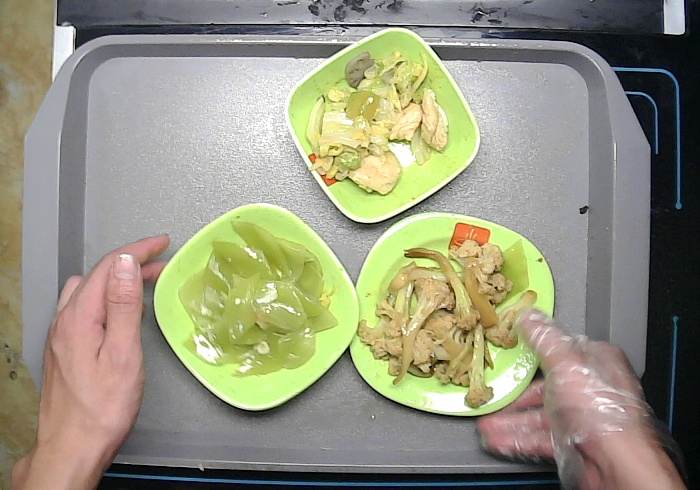SHKJ-Lv_Se_Cai_Die: (152, 200, 361, 410)
SHKJ-Lv_Se_Si_Fang_Cai_Die: (349, 210, 555, 417)
SHKJ-Lv_Se_Xiao_Fang_Die: (283, 27, 481, 225)
